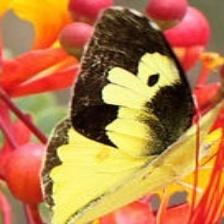butterfly: (45, 7, 196, 224)
